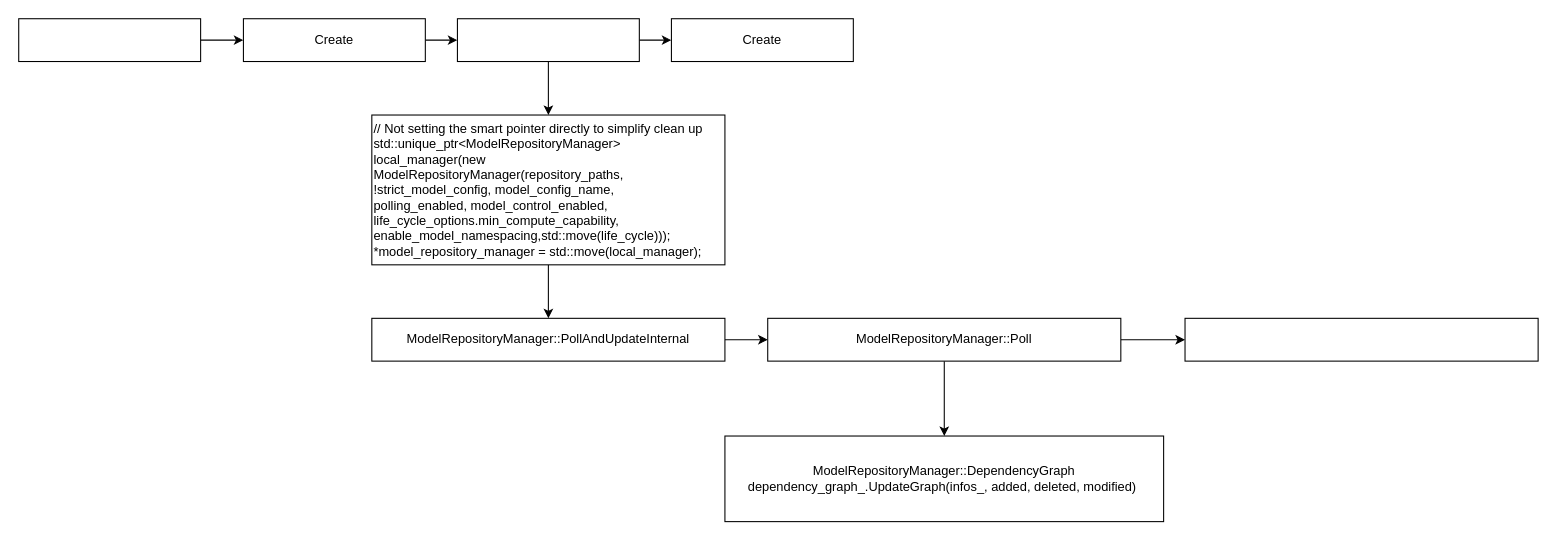
Image size: 1557x540. Some labels were removed from this diagram. The shapes that lost their labels are listed below. From the top down, each one's box as (x1, y1, x2, y2) in pixels, then its label:
(18, 18, 201, 62): ModelRepositoryManager
(456, 18, 639, 62): ModelLifeCycle
(1184, 317, 1538, 361): ModelRepositoryManager:: InitializeModelInfo
